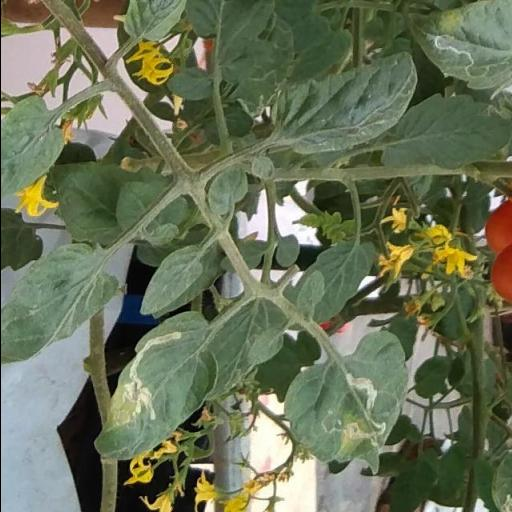disease_tomato: (91, 312, 216, 461), (283, 329, 409, 475)
